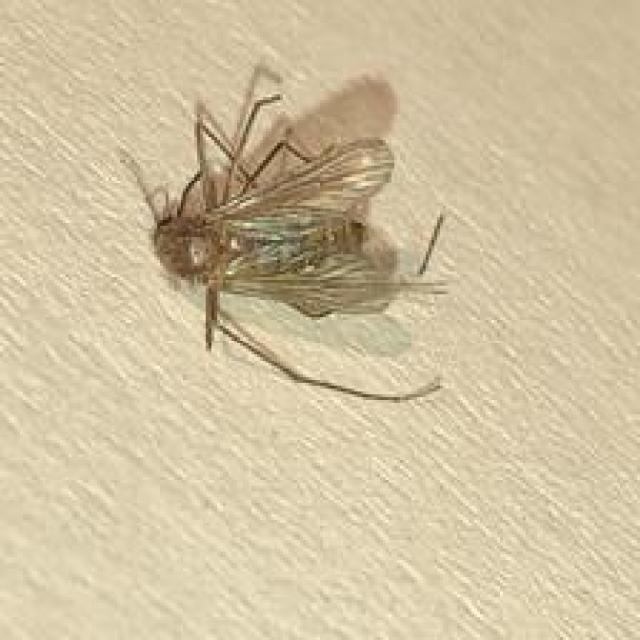Culex: (114, 60, 452, 403)
